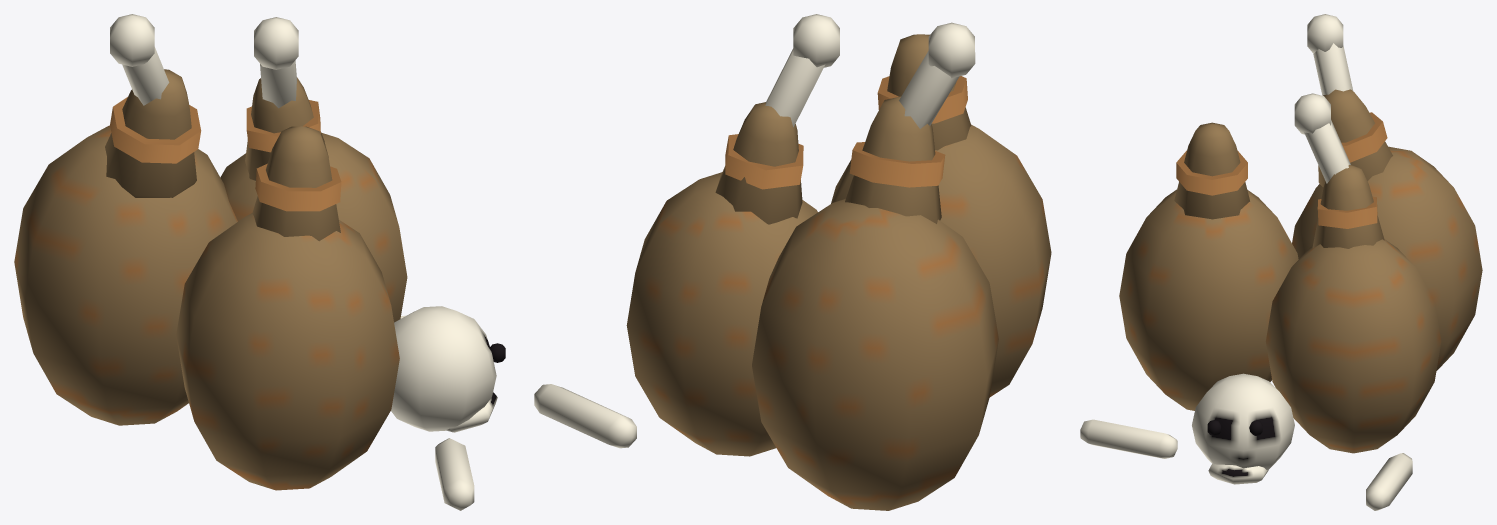
Rendered from prop_sacks2_f822.glb.
3 renders of one model, left to right at view 1: azimuth 30°, elevation 25°; view 2: azimuth 150°, elevation 25°; view 3: azimuth 270°, elevation 25°, orthographic. The views are drawn at different scales.
Parts seen in each view (by area): view 1: prop_sacks2_f822; view 2: prop_sacks2_f822; view 3: prop_sacks2_f822.
Boxes of the visible parts, left/top/right/bottom form: prop_sacks2_f822: left=14, top=14, right=505, bottom=510; prop_sacks2_f822: left=534, top=14, right=1051, bottom=510; prop_sacks2_f822: left=1080, top=14, right=1482, bottom=510.
Bounding box in the file's own units: 1.15 × 1.11 × 1.13.
1 material, 1 textured.
